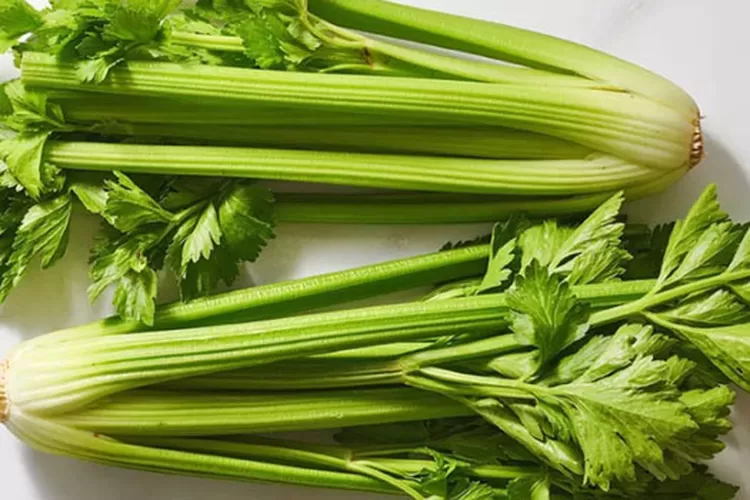Seledri: (22, 234, 746, 500)
